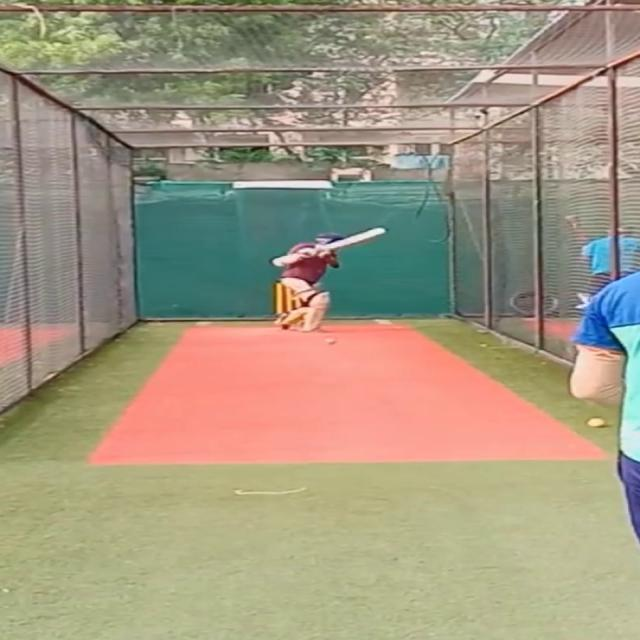ball: (586, 414, 612, 429), (322, 334, 342, 346)
stump: (274, 280, 296, 325)
